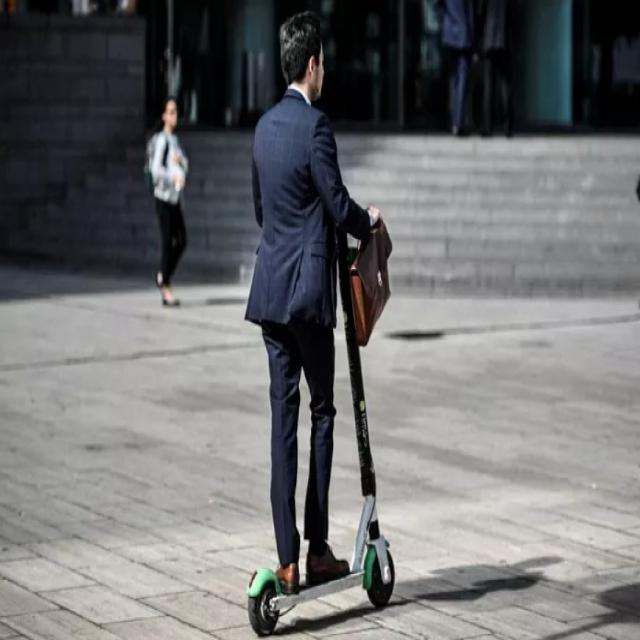non-helmet: (234, 7, 406, 637)
